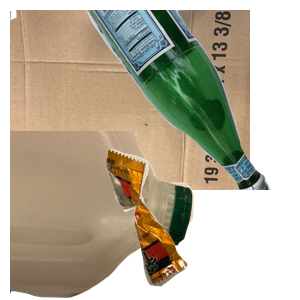cardboard: (10, 10, 250, 190)
glass: (75, 10, 300, 190)
plastic: (10, 131, 196, 300)
trash: (103, 147, 300, 300)
